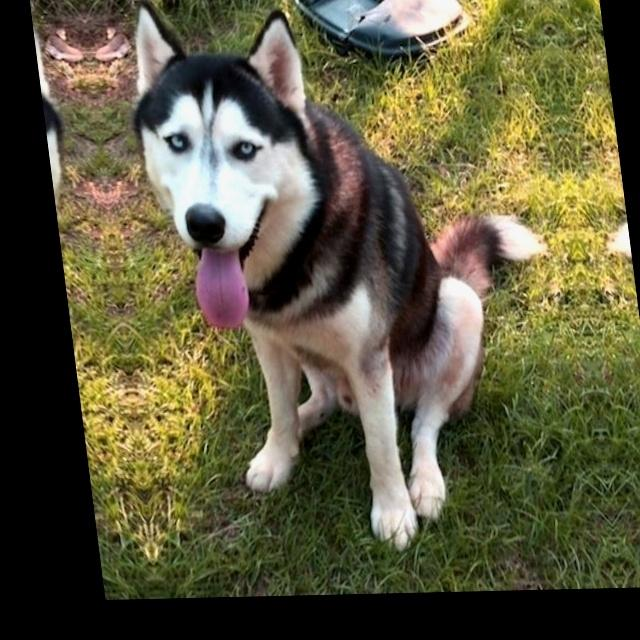dog: (88, 38, 530, 534), (36, 46, 150, 535)
